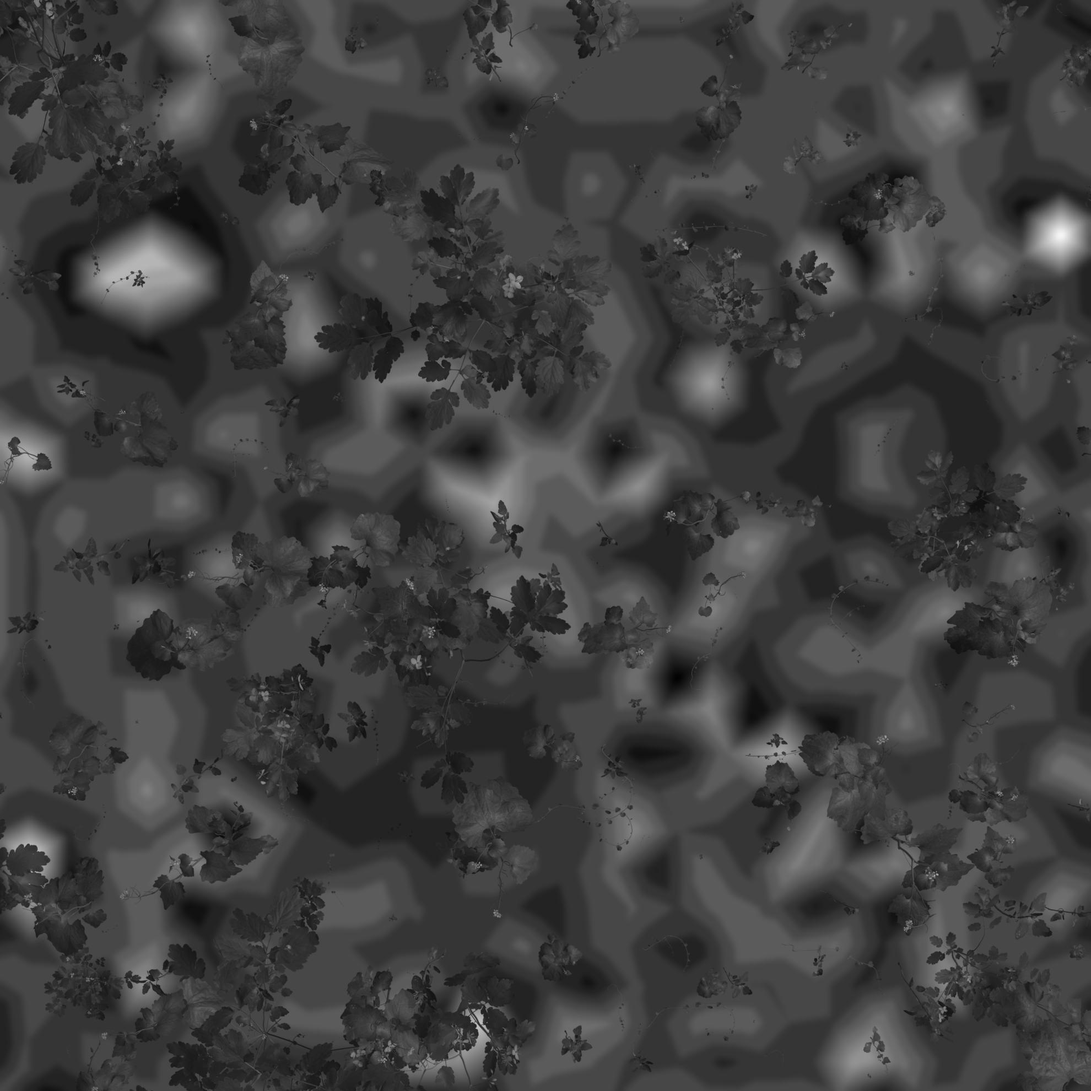landmine: (807, 373, 973, 548), (349, 699, 534, 853), (60, 206, 223, 362)
